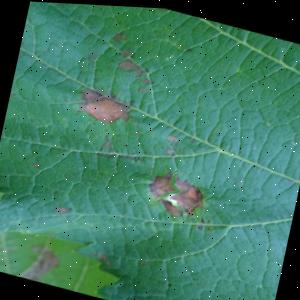Folha: (0, 0, 300, 300)
Fungo: (143, 165, 208, 221), (74, 85, 134, 129), (11, 238, 62, 286), (110, 46, 159, 94), (115, 54, 148, 79), (52, 203, 72, 217), (111, 29, 128, 43), (164, 131, 179, 143), (117, 47, 130, 59), (140, 76, 154, 85), (136, 85, 148, 93), (164, 147, 174, 155), (193, 222, 204, 229), (138, 259, 148, 265), (184, 45, 193, 51), (32, 163, 39, 168)
